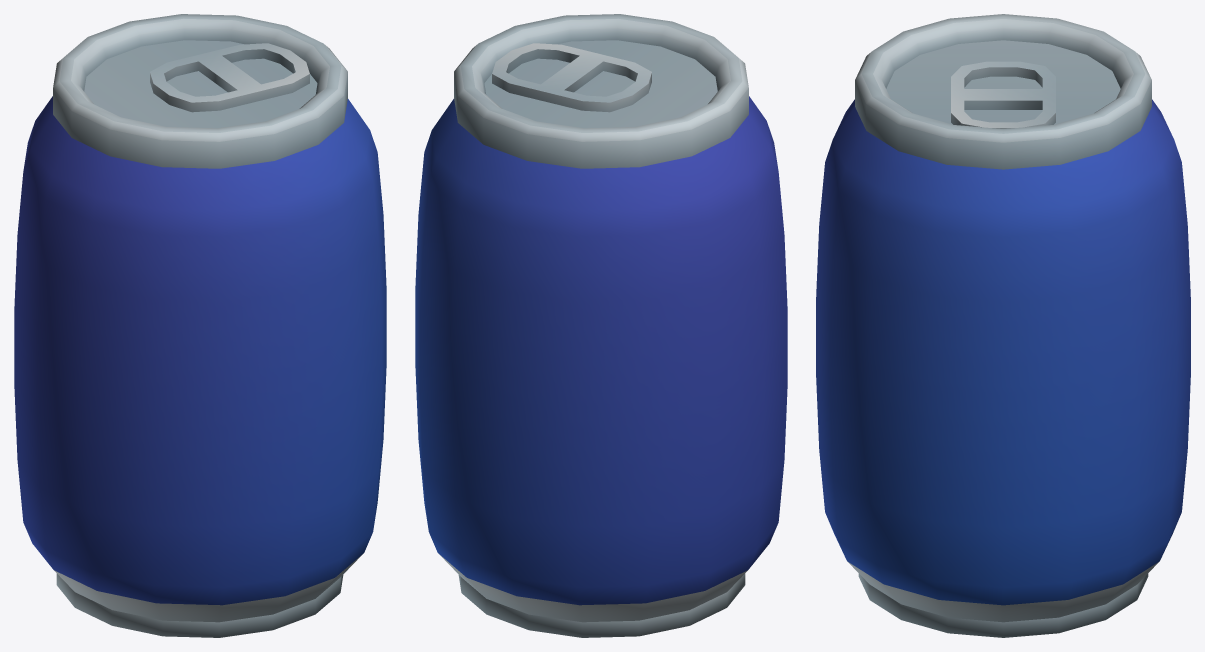
File: can_011.fbx
3 renders of one model, left to right at view 1: azimuth 30°, elevation 25°; view 2: azimuth 150°, elevation 25°; view 3: azimuth 270°, elevation 25°, orthographic.
Visible parts, largest first — view 1: can_011; view 2: can_011; view 3: can_011.
Part boxes in pixels (x1,y1,x2,y2): can_011: (14, 14, 386, 637); can_011: (415, 14, 787, 637); can_011: (816, 14, 1190, 637).
Size of the model in its own units: 7.77 by 7.77 by 11.64.
